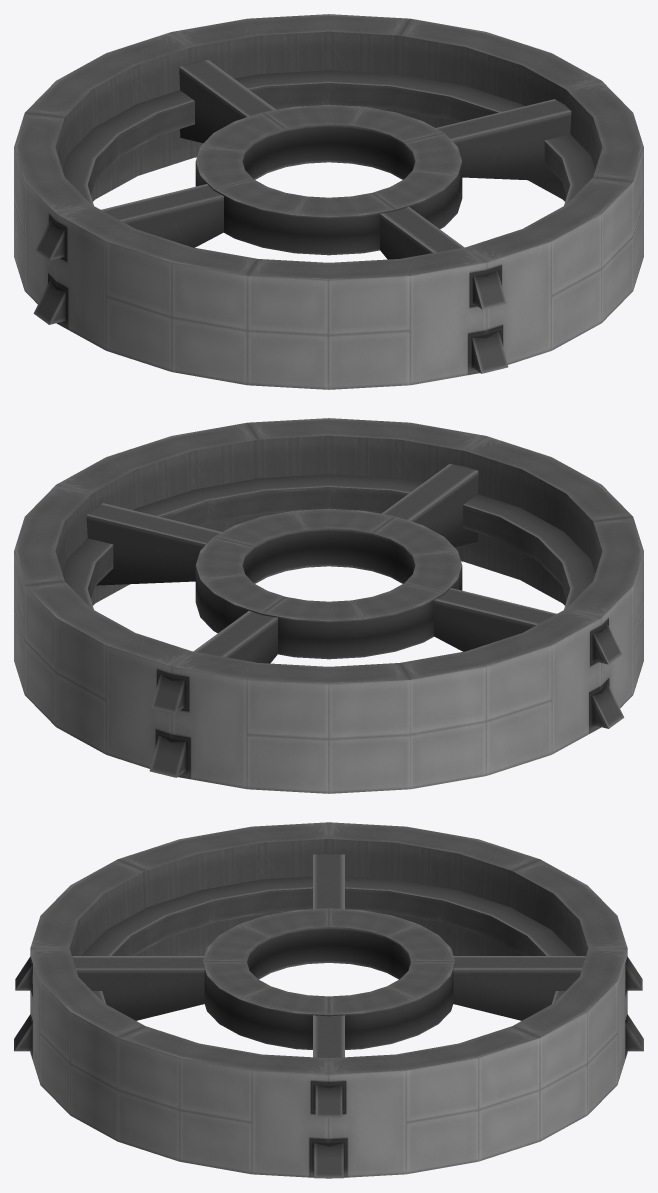
Rendered from Titan1_15mFairingBase.dae.
3 views of the same model, one above another, from view 1: azimuth 30°, elevation 25°; view 2: azimuth 150°, elevation 25°; view 3: azimuth 270°, elevation 25° (orthographic). The views are drawn at different scales.
Visible parts, largest first — view 1: Titan_15mFairingBase_Ribs; view 2: Titan_15mFairingBase_Ribs; view 3: Titan_15mFairingBase_Ribs.
Boxes of the visible parts, box(x1,y1,x2,y2) form: Titan_15mFairingBase_Ribs: box(14, 14, 643, 389); Titan_15mFairingBase_Ribs: box(14, 418, 643, 793); Titan_15mFairingBase_Ribs: box(14, 822, 643, 1178).
Bounding box in the file's own units: 1.59 × 0.2884 × 1.59.
